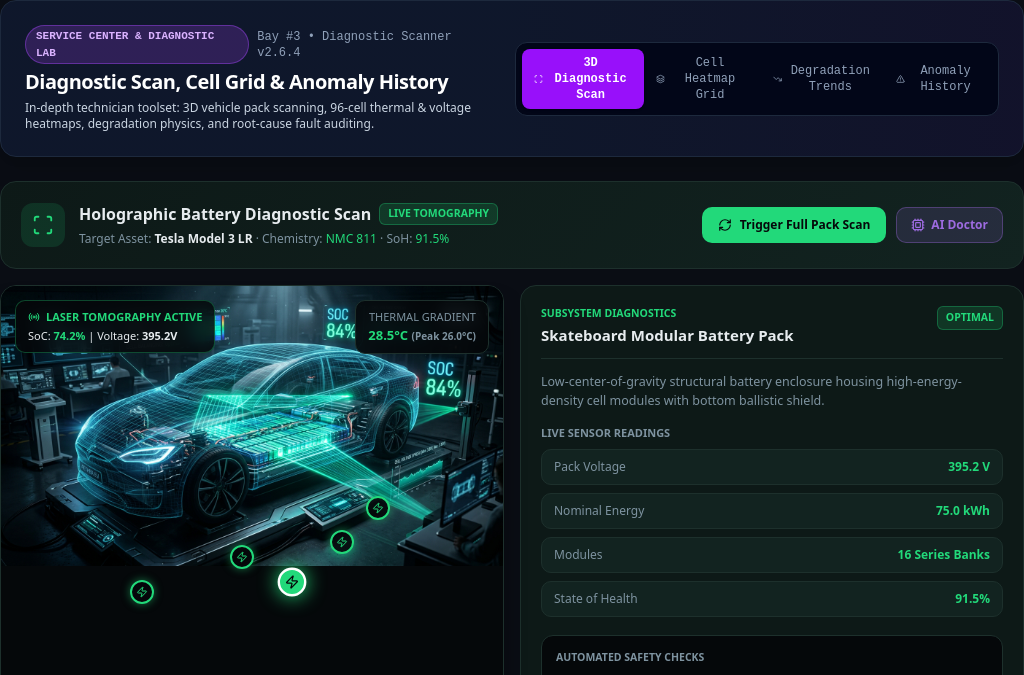
Test: ServiceCenterDashboard Component › switches between diagnostic tabs and renders degradation trends
What coordinates should you click on to do the following:
click the button "Degradation Trends"
I would click on:
 (823, 78)
Its box is [761,56,884,100].
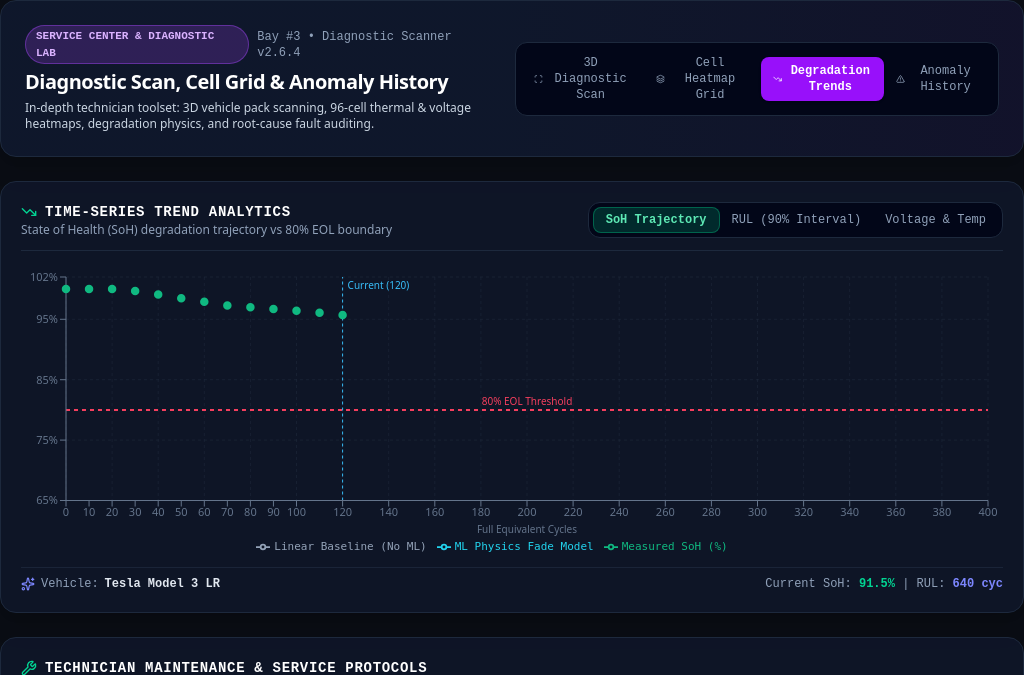
Expected: the heading "Time-Series Trend Analytics" is shown, [21,204,291,220]
What coordinates should you click on to do the following:
click the button "Cell Heatmap Grid"
I would click on:
 (703, 78)
Its box is [644,48,761,108].
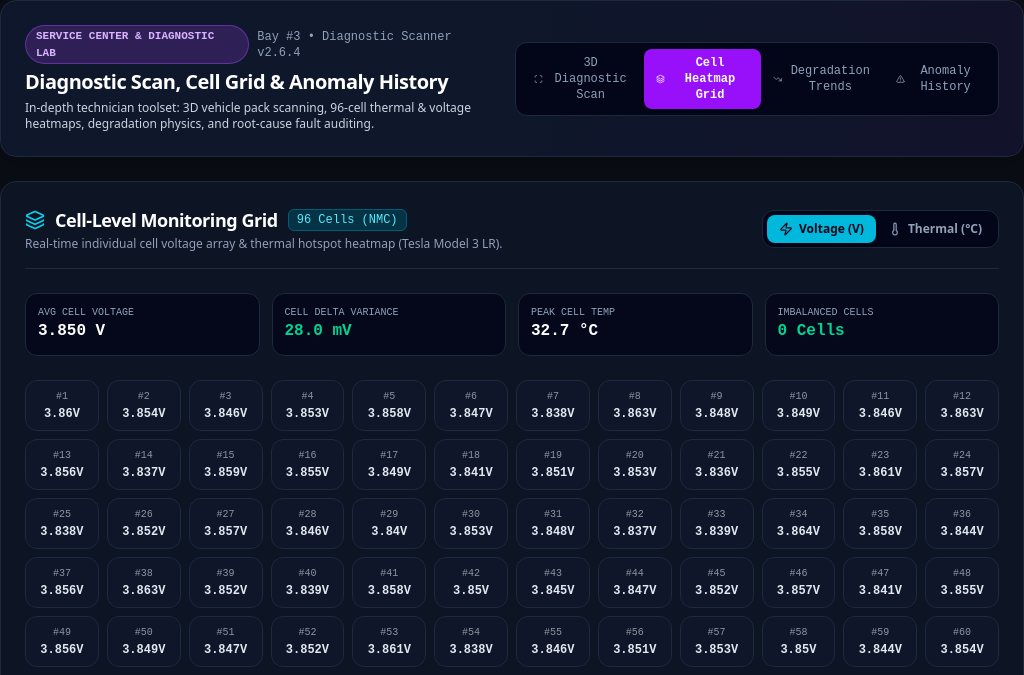
Expected: the heading "Cell-Level Monitoring Grid" is shown, [55,206,278,234]
